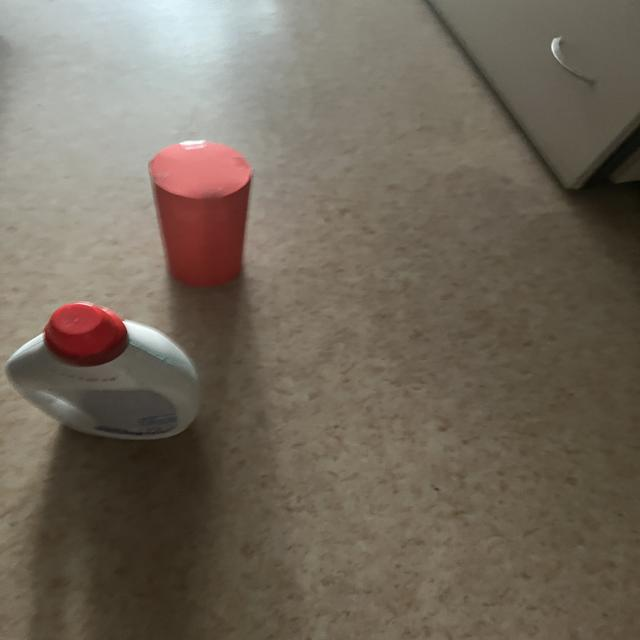przeszkoda: (149, 141, 252, 287)
